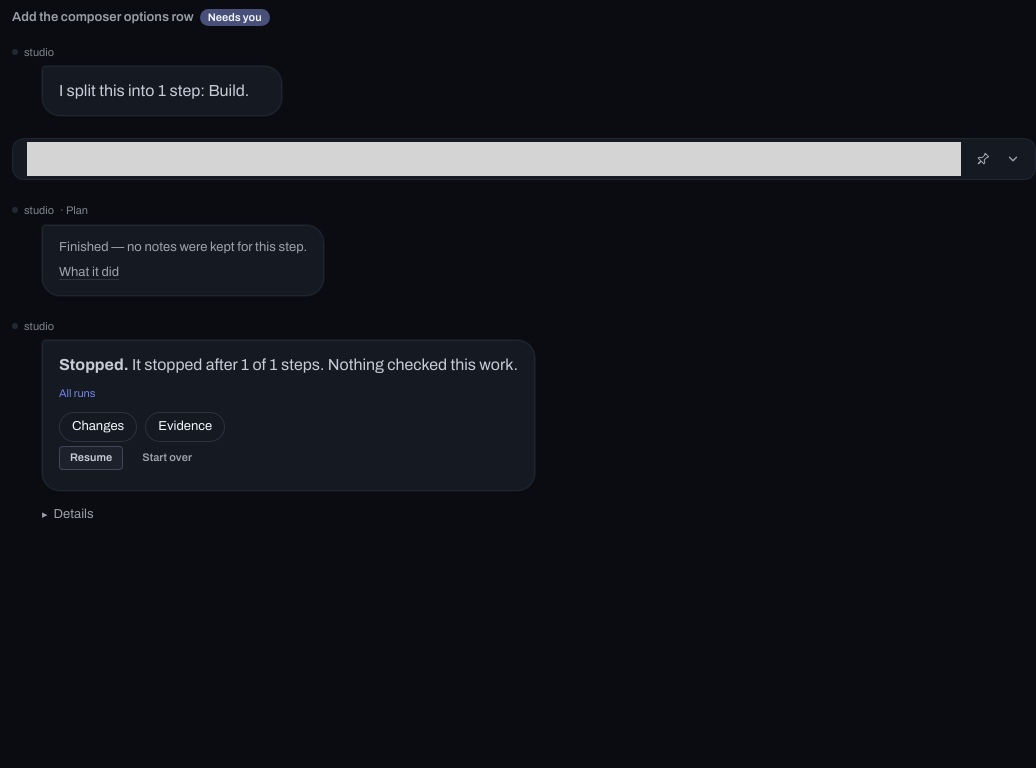
Test: studio#615 — Resume a failed run in place › a refusal is said beside the arm, and the arm stays
Click the button with test id "session-failed-resume-button".
click(91, 458)  # box 59,446 -> 123,470
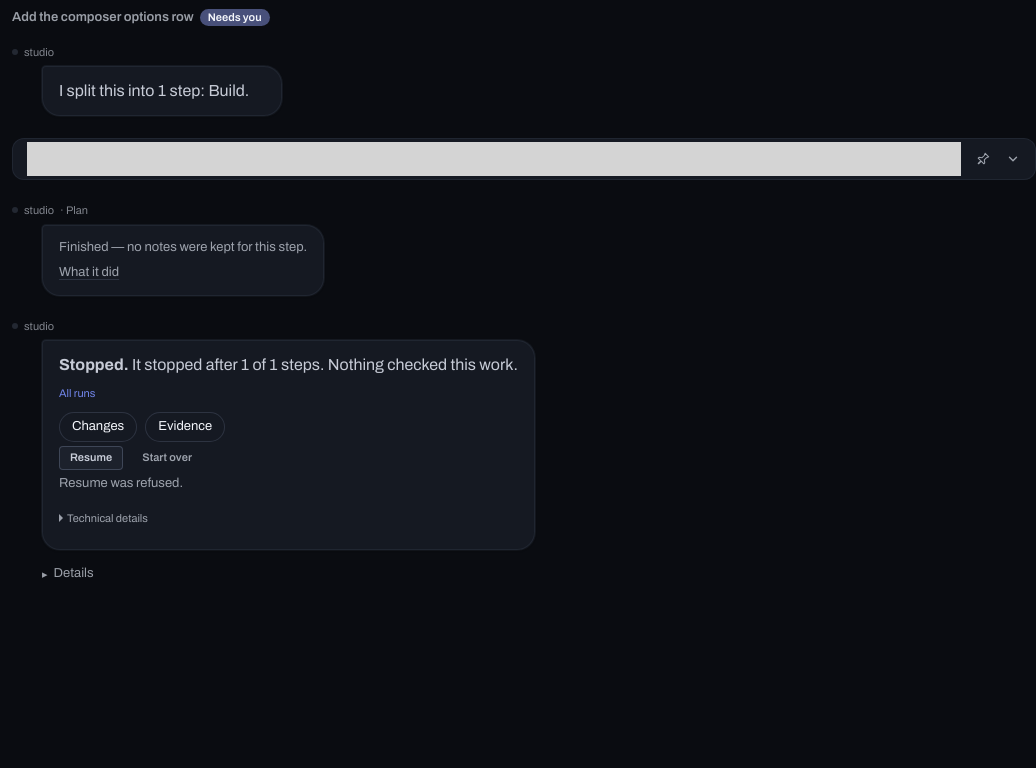
Expected: the text with test id "session-failed-resume-error" reads "Resume was refused.", 59,476 -> 183,490
